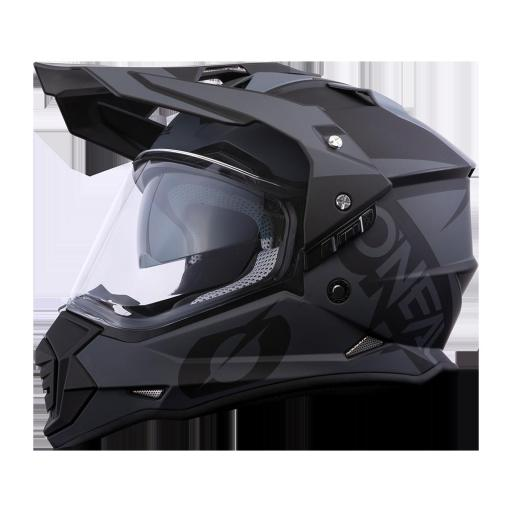with helmet: (19, 27, 484, 460)
